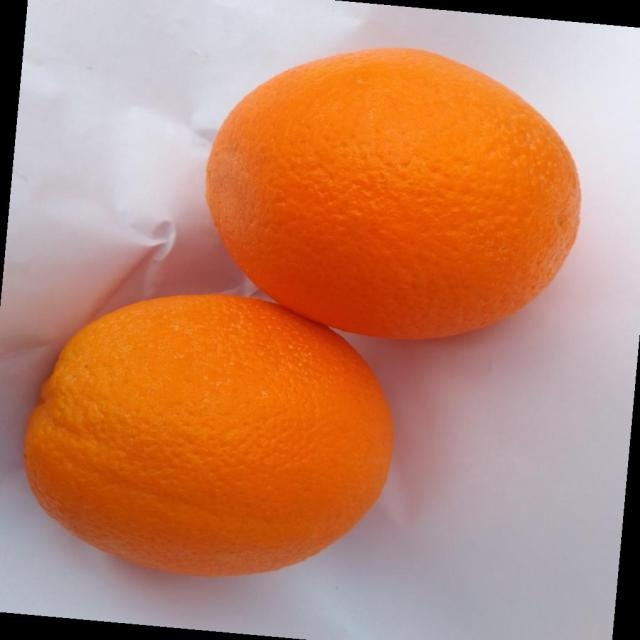agrume: (204, 45, 582, 341), (22, 292, 395, 578)
